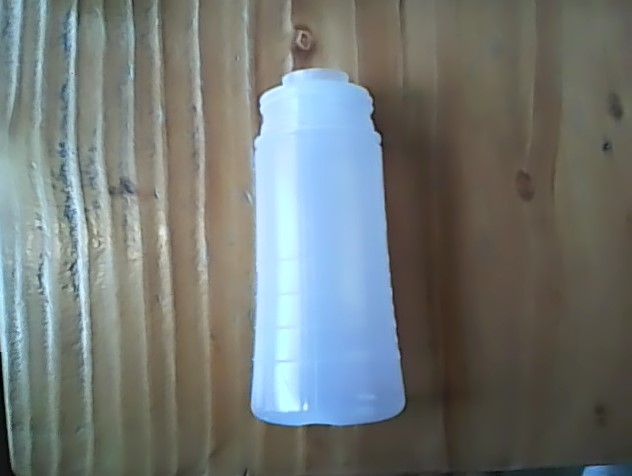Plastic: (249, 68, 409, 428)
